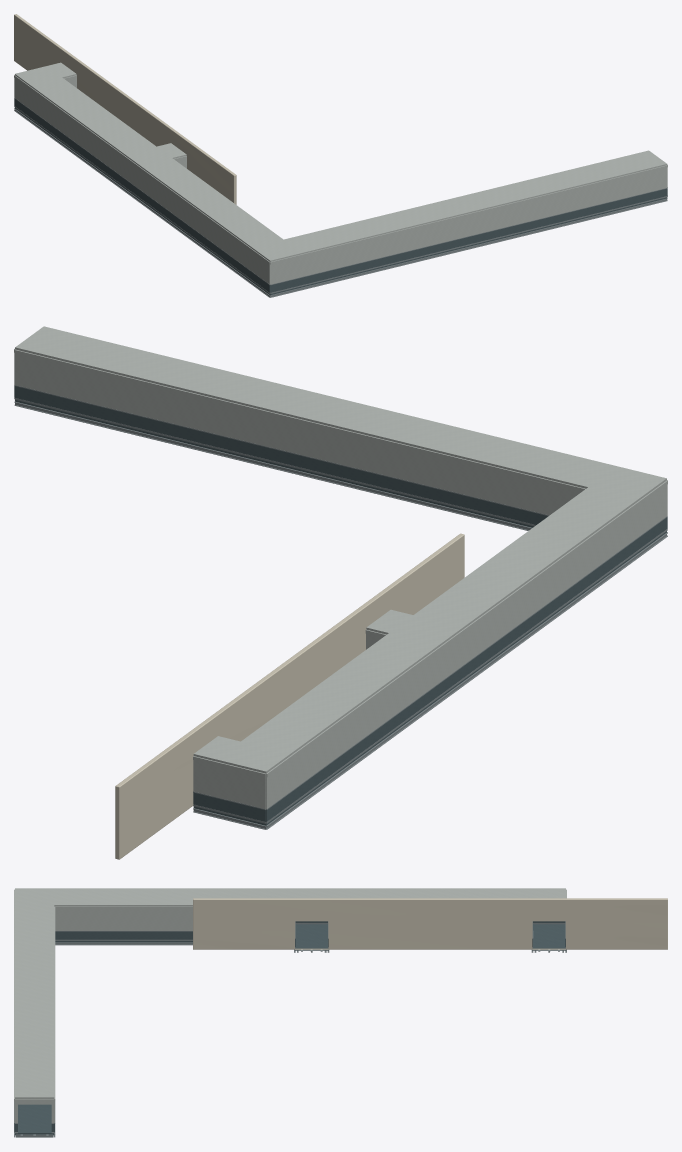
Rendered from TIDE_SERVICE_RECEIVER_r001.glb.
The picture shows the model from 3 angles, top to bottom: view 1: azimuth 30°, elevation 25°; view 2: azimuth 150°, elevation 25°; view 3: azimuth 270°, elevation 25°; orthographic projection. The views are drawn at different scales.
Visible parts, largest first — view 1: TKS_BATCH_001, TKS_EXACT_WEST_SUCCESSOR, TKS_BATCH_000, TKS_BATCH_002; view 2: TKS_BATCH_001, TKS_EXACT_WEST_SUCCESSOR, TKS_BATCH_000, TKS_BATCH_002; view 3: TKS_EXACT_WEST_SUCCESSOR, TKS_BATCH_001, TKS_BATCH_000, TKS_BATCH_002.
Part boxes in pixels (bbox=[...]): TKS_BATCH_001: bbox=[14, 62, 667, 284]; TKS_EXACT_WEST_SUCCESSOR: bbox=[14, 14, 236, 204]; TKS_BATCH_000: bbox=[14, 98, 667, 295]; TKS_BATCH_002: bbox=[14, 98, 667, 297]; TKS_BATCH_001: bbox=[14, 326, 667, 808]; TKS_EXACT_WEST_SUCCESSOR: bbox=[115, 533, 464, 859]; TKS_BATCH_000: bbox=[14, 385, 667, 825]; TKS_BATCH_002: bbox=[14, 385, 667, 829]; TKS_EXACT_WEST_SUCCESSOR: bbox=[193, 898, 667, 949]; TKS_BATCH_001: bbox=[14, 888, 566, 1123]; TKS_BATCH_000: bbox=[14, 921, 565, 1135]; TKS_BATCH_002: bbox=[14, 923, 566, 1137].
Bounding box in the file's own units: 50.39 × 6.06 × 66.09.
Materials: 5 (4 with a texture image).
